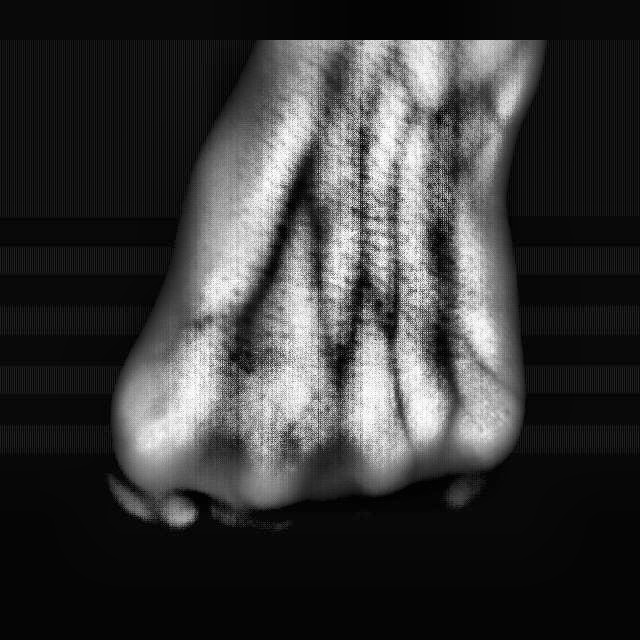Vein: (255, 137, 328, 290)
